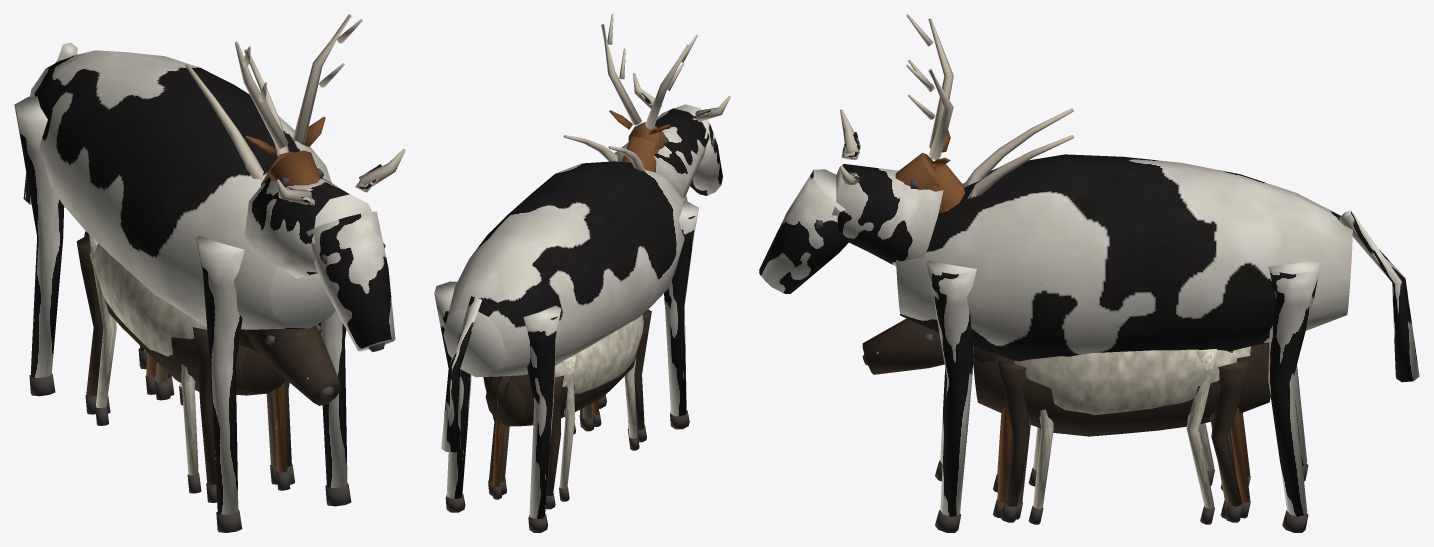
The model's file is animals.glb.
The picture shows the model from 3 angles, left to right: view 1: azimuth 30°, elevation 25°; view 2: azimuth 150°, elevation 25°; view 3: azimuth 270°, elevation 25°; orthographic projection. The views are drawn at different scales.
Visible parts, largest first — view 1: cow__body, cow__legFR, boar__body, cow__legRR, deer__body, sheep__body, cow__legFL, boar__legFR, boar__legRR, ibex__body, sheep__legRR, sheep__legFR (+3 smaller); view 2: cow__body, cow__legRR, cow__legFR, deer__body, sheep__body, boar__body, cow__legRL, sheep__legRR, boar__legRR, boar__legFR, sheep__legFR, deer__legRL (+2 smaller); view 3: cow__body, boar__body, sheep__body, cow__legRL, cow__legFL, deer__body, boar__legRL, boar__legFL, sheep__legRL, ibex__body, sheep__legFL, deer__legRL (+1 smaller).
Boxes of the visible parts, x1,y1,x2,y2 form: cow__body: (23,42,405,352); cow__legFR: (196,236,244,532); boar__body: (84,231,340,405); cow__legRR: (14,96,64,396); deer__body: (235,14,362,187); sheep__body: (90,243,207,356); cow__legFL: (318,310,351,506); boar__legFR: (192,327,216,502); boar__legRR: (76,236,103,414); ibex__body: (185,49,313,280); sheep__legRR: (89,234,116,425); sheep__legFR: (181,364,201,493); cow__body: (441,73,730,452); cow__legRR: (523,305,561,532); cow__legFR: (664,201,698,429); deer__body: (601,14,697,172); sheep__body: (554,315,643,393); boar__body: (485,330,643,426); cow__legRL: (434,281,471,512); sheep__legRR: (559,355,576,501); boar__legRR: (545,375,564,509); boar__legFR: (634,309,651,442); sheep__legFR: (624,358,639,450); deer__legRL: (491,419,504,499); cow__body: (759,109,1419,382); boar__body: (862,318,1270,436); sheep__body: (1014,346,1250,414); cow__legRL: (1268,259,1320,532); cow__legFL: (926,260,976,532); deer__body: (895,14,964,213); boar__legRL: (1211,360,1249,522); boar__legFL: (998,361,1029,522); sheep__legRL: (1186,349,1217,524); ibex__body: (963,108,1259,347); sheep__legFL: (1028,409,1053,524); deer__legRL: (1230,408,1250,518).
Size of the model in its own units: 0.8408 by 2.16 by 2.77.
8 materials, 5 textured.
